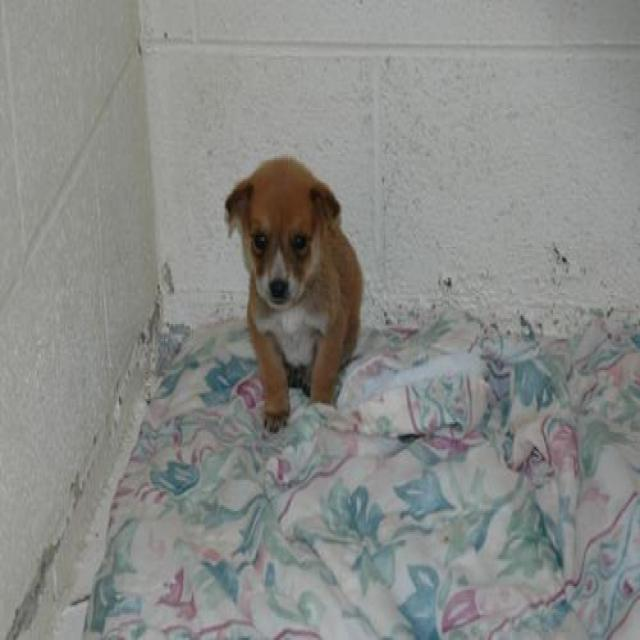Dogs: (222, 154, 364, 432)
